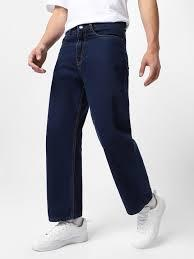jeans: (40, 22, 158, 224)
